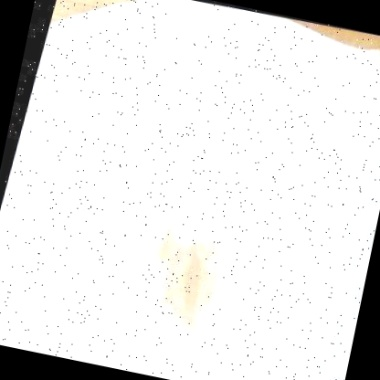coffee: (160, 237, 227, 330)
